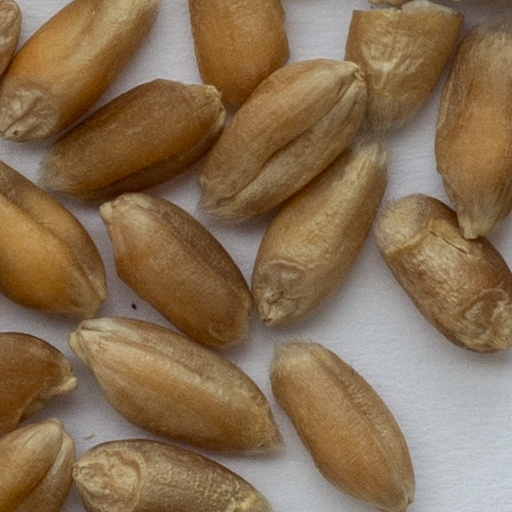Wheat-grain: (65, 315, 288, 461), (195, 55, 366, 228), (252, 138, 389, 325), (268, 339, 416, 511), (0, 0, 160, 146), (37, 79, 225, 202), (372, 193, 511, 355), (101, 195, 251, 345), (427, 19, 511, 236), (0, 163, 107, 317), (73, 438, 277, 511), (182, 0, 293, 107), (0, 335, 77, 433), (0, 420, 73, 511), (0, 0, 18, 71), (372, 0, 412, 5)
Wheat-grain-damaged: (344, 0, 463, 131)
